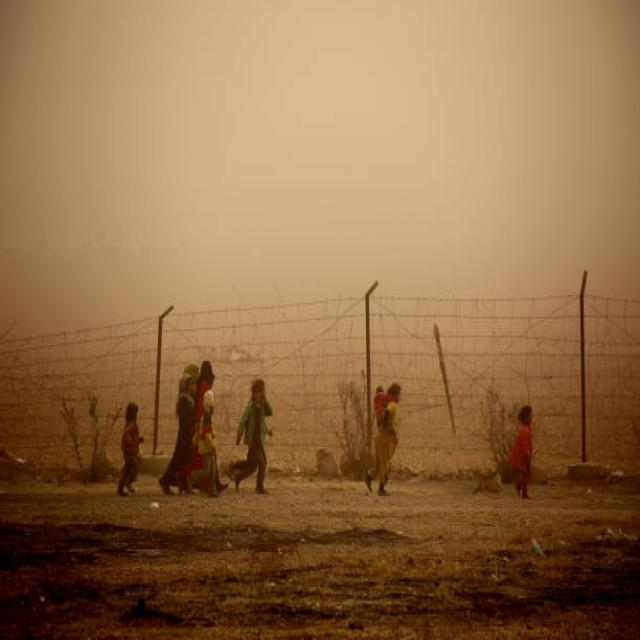civilian: (185, 361, 225, 496), (159, 365, 197, 494), (230, 380, 272, 493), (366, 383, 401, 494), (117, 402, 142, 493), (507, 405, 531, 497)
